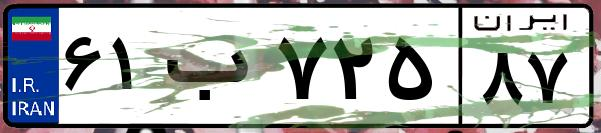1: (110, 28, 158, 98)
2: (330, 28, 385, 110)
5: (385, 28, 445, 110)
6: (57, 26, 110, 100)
7: (270, 28, 330, 110), (525, 38, 570, 115)
8: (475, 38, 525, 113)
ب: (158, 20, 270, 120)
